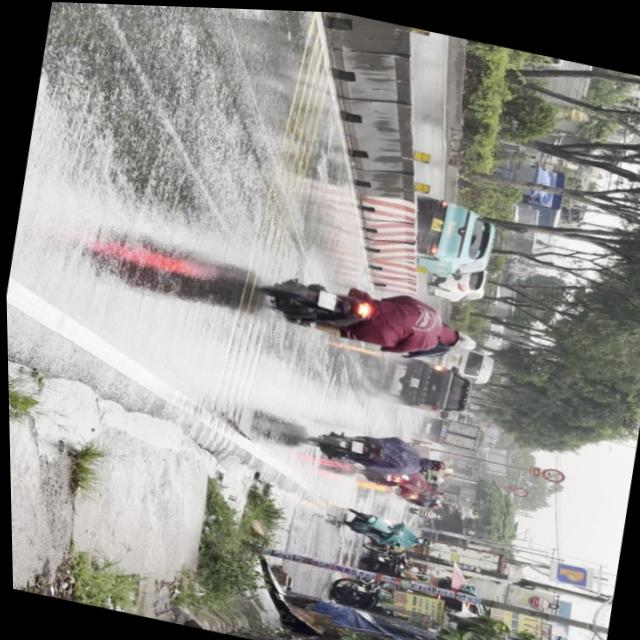helmet: (443, 322, 478, 347)
licenseplate: (251, 260, 486, 365)
nohelmet: (316, 287, 338, 306)
